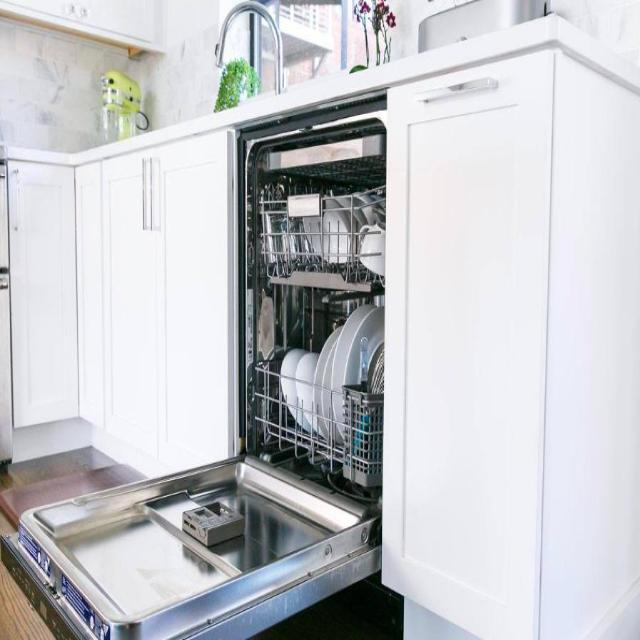dishwasher: (0, 80, 389, 639)
